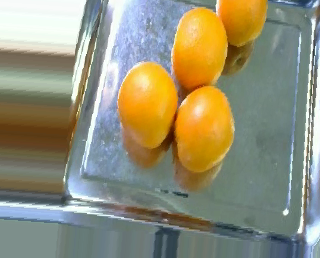Orange: (116, 60, 179, 150), (174, 86, 236, 173), (170, 5, 227, 92)
